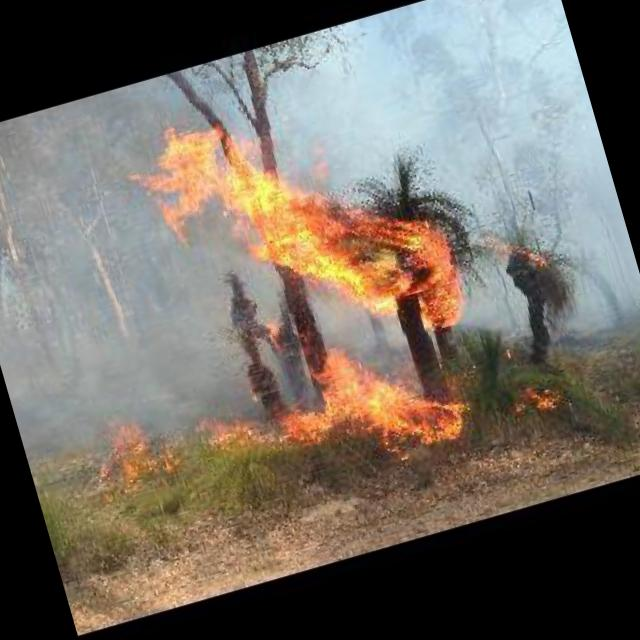fire: (22, 65, 506, 545)
